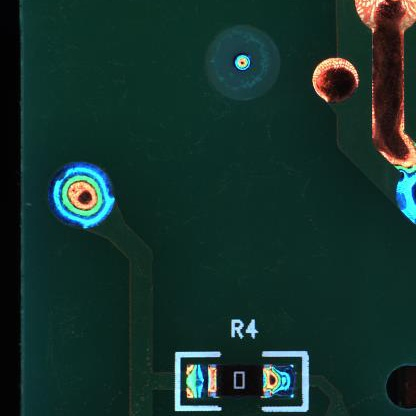spot: (49, 160, 116, 230)
